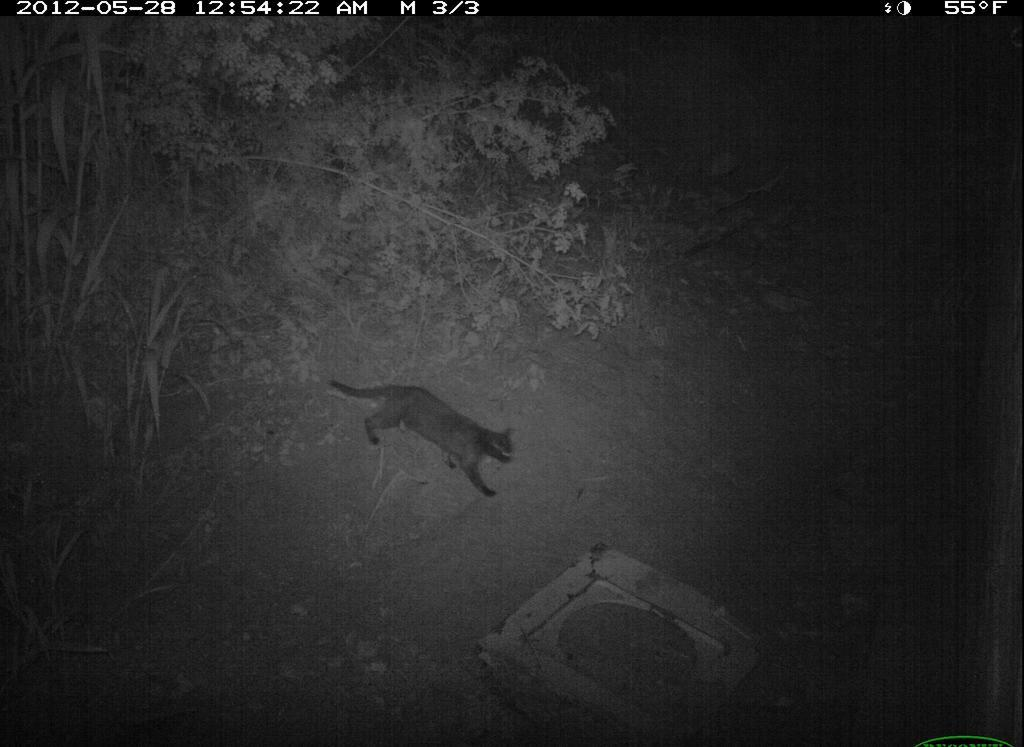cat: (318, 358, 527, 495)
